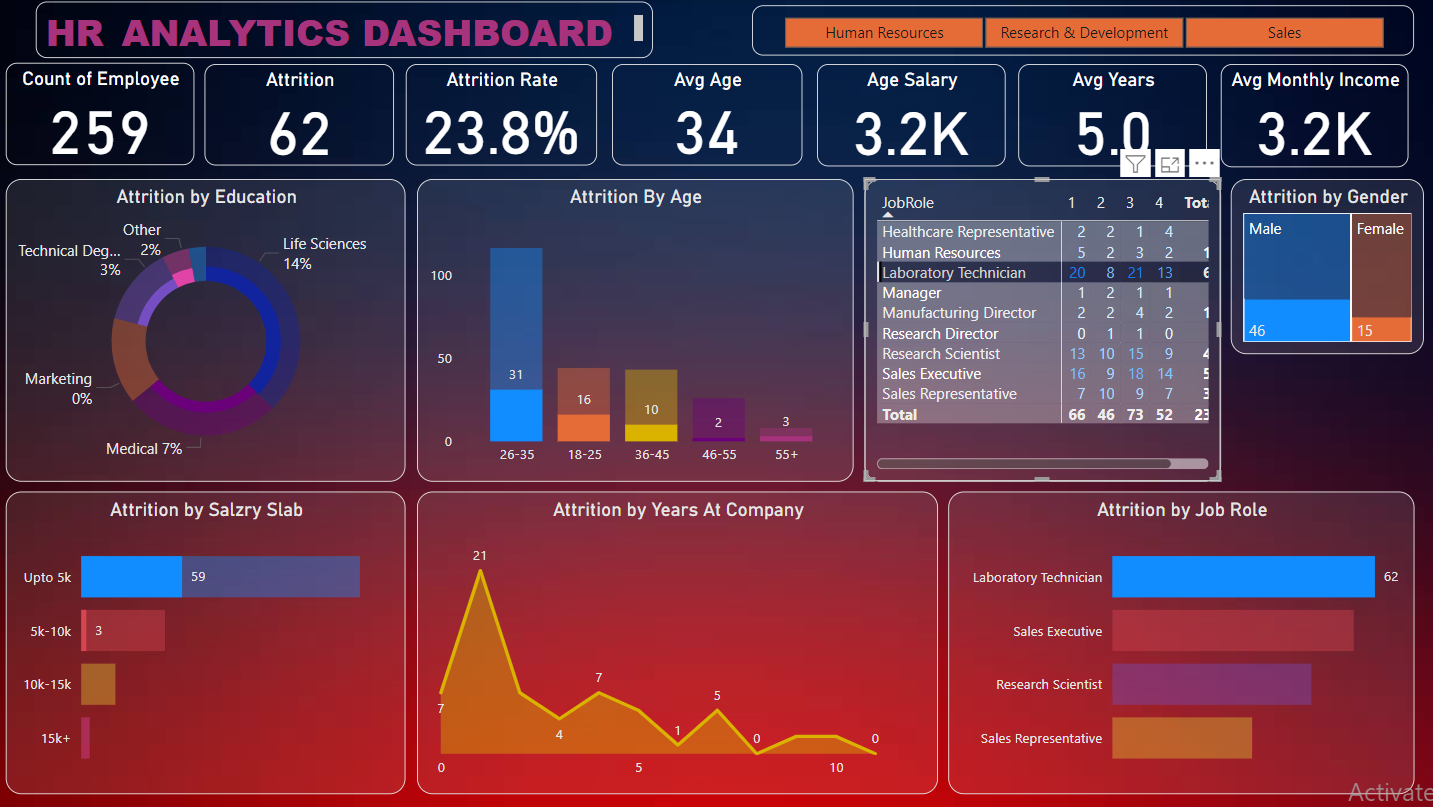

What the dashboard file says about the page in this screenshot:
{"tool":"powerbi","page":{"name":"Page 1","canvas":[1280,720],"ordinal":0},"visuals":[{"type":"card","title":"Count of Employee","fields":{"Values":["Count(HR_Analytics.EmpID)"]},"box":[7.8,56.8,168.1,91.3],"z":0},{"type":"card","title":"Attrition","fields":{"Values":["Sum(HR_Analytics.AttritionCount)"]},"box":[185.2,57.6,168.8,90.6],"z":1000},{"type":"card","title":"Attrition Rate","fields":{"Values":["HR_Analytics.AttritionRate"]},"box":[364,57.9,170.3,90.2],"z":2000},{"type":"card","title":"Avg Age","fields":{"Values":["Avg(HR_Analytics.Age)"]},"box":[547.7,57.9,169.2,90.2],"z":3000},{"type":"card","title":"Age Salary","fields":{"Values":["Avg(HR_Analytics.MonthlyIncome)"]},"box":[730.2,57.9,168.1,91.3],"z":4000},{"type":"card","title":"Avg Years","fields":{"Values":["Avg(HR_Analytics.YearsAtCompany)"]},"box":[909.5,57.9,168.1,91.3],"z":5000},{"type":"donutChart","title":"Attrition by Education","fields":{"Category":["HR_Analytics.EducationField"],"Y":["Sum(HR_Analytics.AttritionCount)"]},"box":[7.8,160.3,356.2,269.4],"z":6000},{"type":"columnChart","title":"Attrition By Age","fields":{"Category":["HR_Analytics.AgeGroup"],"Y":["Sum(HR_Analytics.AttritionCount)"]},"box":[374,160.3,388.5,269.4],"z":7000},{"type":"pivotTable","fields":{"Rows":["HR_Analytics.JobRole"],"Columns":["HR_Analytics.JobSatisfaction"],"Values":["Sum(HR_Analytics.AttritionCount)"]},"box":[772.5,160.3,317.3,269.4],"z":8000},{"type":"barChart","title":"Attrition by Salzry Slab","fields":{"Category":["HR_Analytics.SalarySlab"],"Y":["Sum(HR_Analytics.AttritionCount)"]},"box":[7.8,438.6,356.2,269.4],"z":9000},{"type":"barChart","title":"Attrition by Job Role","fields":{"Category":["HR_Analytics.JobRole"],"Y":["Sum(HR_Analytics.AttritionCount)"]},"box":[847.1,438.6,415.2,269.4],"z":10000},{"type":"areaChart","title":"Attrition by Years At Company","fields":{"Category":["HR_Analytics.YearsAtCompany"],"Y":["Sum(HR_Analytics.AttritionCount)"]},"box":[374,438.6,464.2,269.4],"z":11000},{"type":"treemap","title":"Attrition by Gender","fields":{"Group":["HR_Analytics.Gender"],"Values":["Sum(HR_Analytics.AttritionCount)"]},"box":[1098.8,160.5,172.1,155.8],"z":12000},{"type":"slicer","fields":{"Values":["HR_Analytics.Department"]},"box":[672.4,5.6,590,44.5],"z":13000},{"type":"textbox","box":[34.9,2.3,551.2,55.8],"z":14000},{"type":"card","title":"Avg Monthly Income","fields":{"Values":["Avg(HR_Analytics.MonthlyIncome)"]},"box":[1089.5,58.1,167.4,91.9],"z":15000}]}

Visuals, with their boxes in screenshot pixels (x1, y1, x2, y2), scaled from the page's 1280x720 canvas onto the 1433x807 screenshot:
"Count of Employee" card: locate(9, 64, 197, 166)
"Attrition" card: locate(207, 65, 396, 166)
"Attrition Rate" card: locate(408, 65, 598, 166)
"Avg Age" card: locate(613, 65, 803, 166)
"Age Salary" card: locate(817, 65, 1006, 167)
"Avg Years" card: locate(1018, 65, 1206, 167)
"Attrition by Education" donutChart: locate(9, 180, 408, 482)
"Attrition By Age" columnChart: locate(419, 180, 854, 482)
pivotTable - HR_Analytics.JobRole x HR_Analytics.JobSatisfaction: locate(865, 180, 1220, 482)
"Attrition by Salzry Slab" barChart: locate(9, 492, 408, 794)
"Attrition by Job Role" barChart: locate(948, 492, 1413, 794)
"Attrition by Years At Company" areaChart: locate(419, 492, 938, 794)
"Attrition by Gender" treemap: locate(1230, 180, 1423, 355)
slicer - HR_Analytics.Department: locate(753, 6, 1413, 56)
textbox: locate(39, 3, 656, 65)
"Avg Monthly Income" card: locate(1220, 65, 1407, 168)
